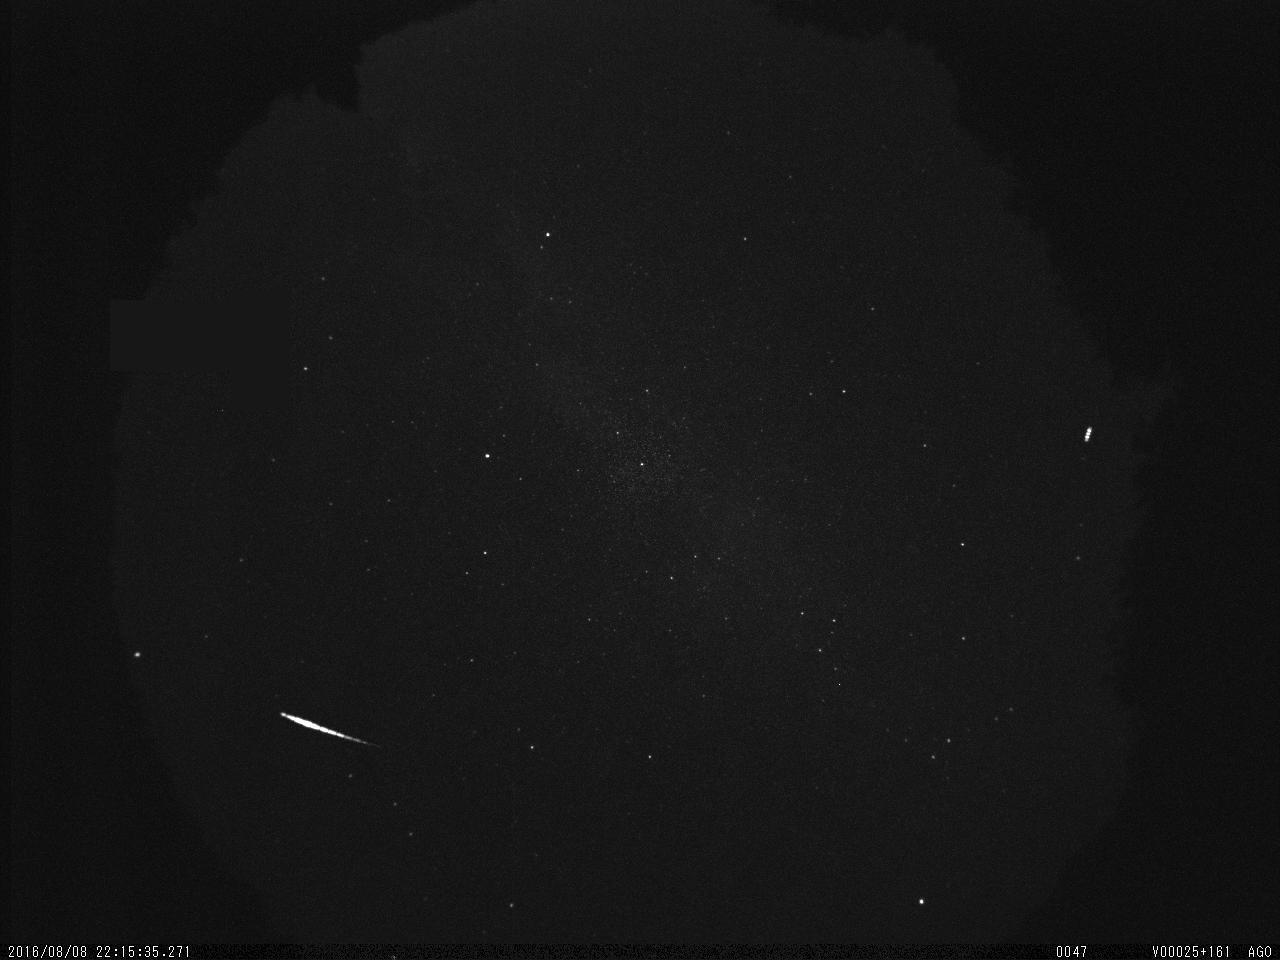meteor: (262, 694, 404, 767)
